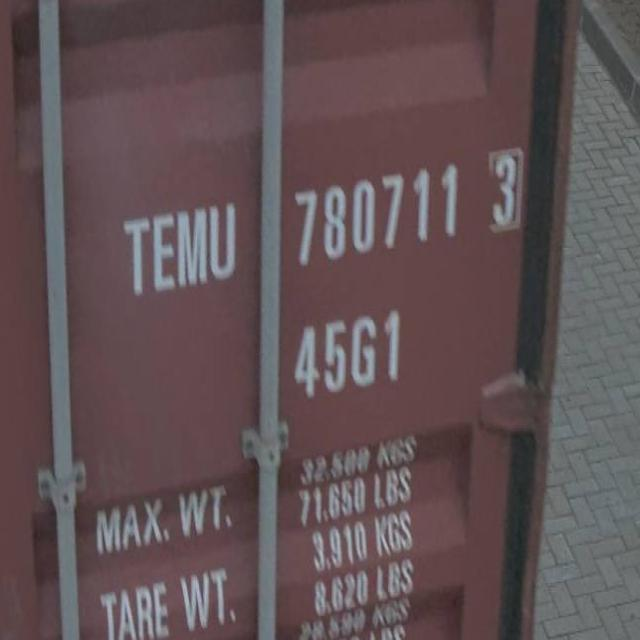dv: (480, 136, 529, 248)
owner: (115, 190, 244, 307)
serial: (287, 160, 466, 274)
size: (284, 301, 411, 415)
